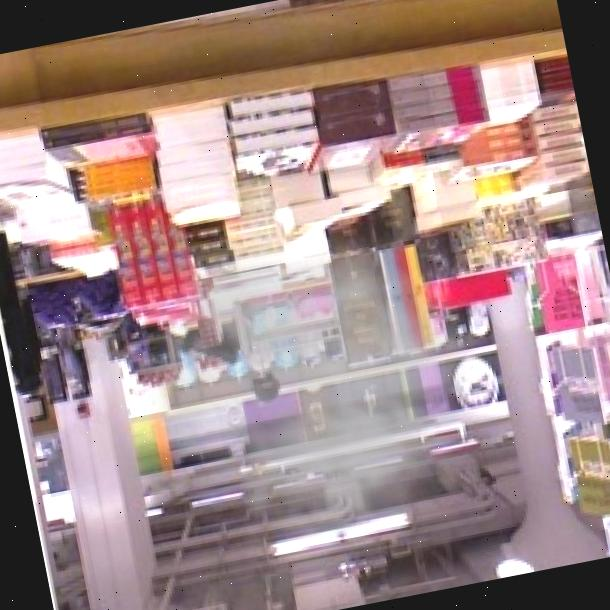smoke: (90, 190, 545, 610)
